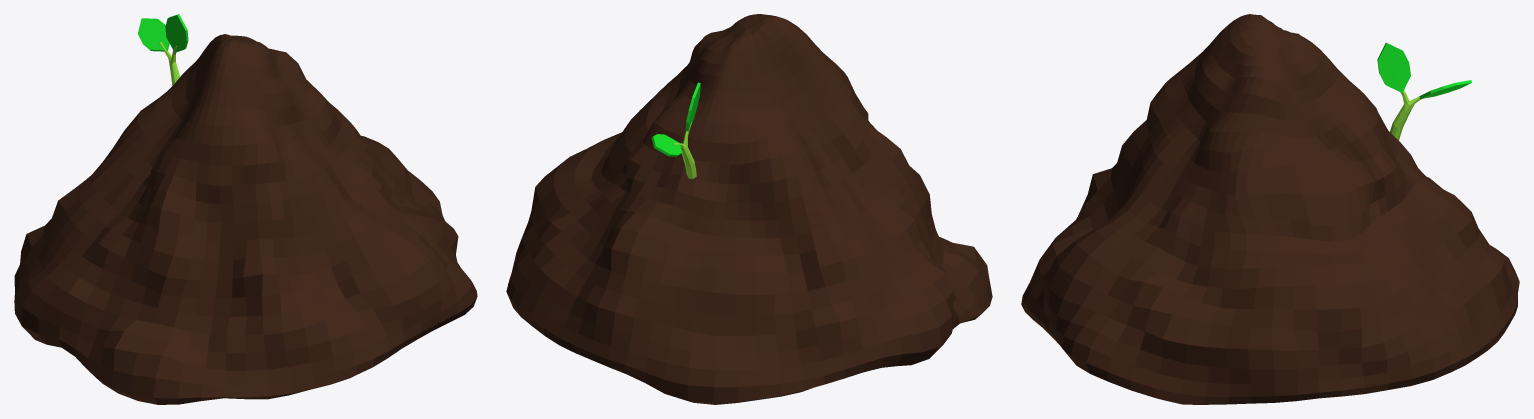
File: abono.fbx
3 views of the same model, side by side, from view 1: azimuth 30°, elevation 25°; view 2: azimuth 150°, elevation 25°; view 3: azimuth 270°, elevation 25° (orthographic). The views are drawn at different scales.
Visible parts, largest first — view 1: abono; view 2: abono; view 3: abono.
Part boxes in pixels (box(x1,y1,x2,y2)): abono: box(14, 14, 477, 404); abono: box(506, 14, 992, 404); abono: box(1021, 14, 1519, 404).
Size of the model in its own units: 55.25 by 37.8 by 55.24.
